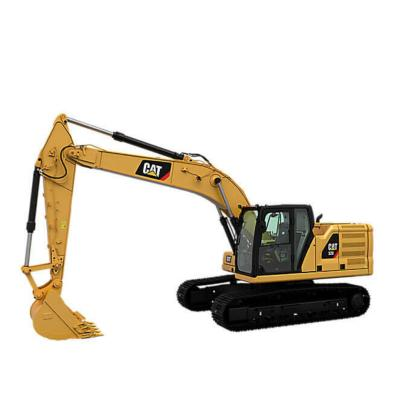excavator: (19, 104, 389, 362)
